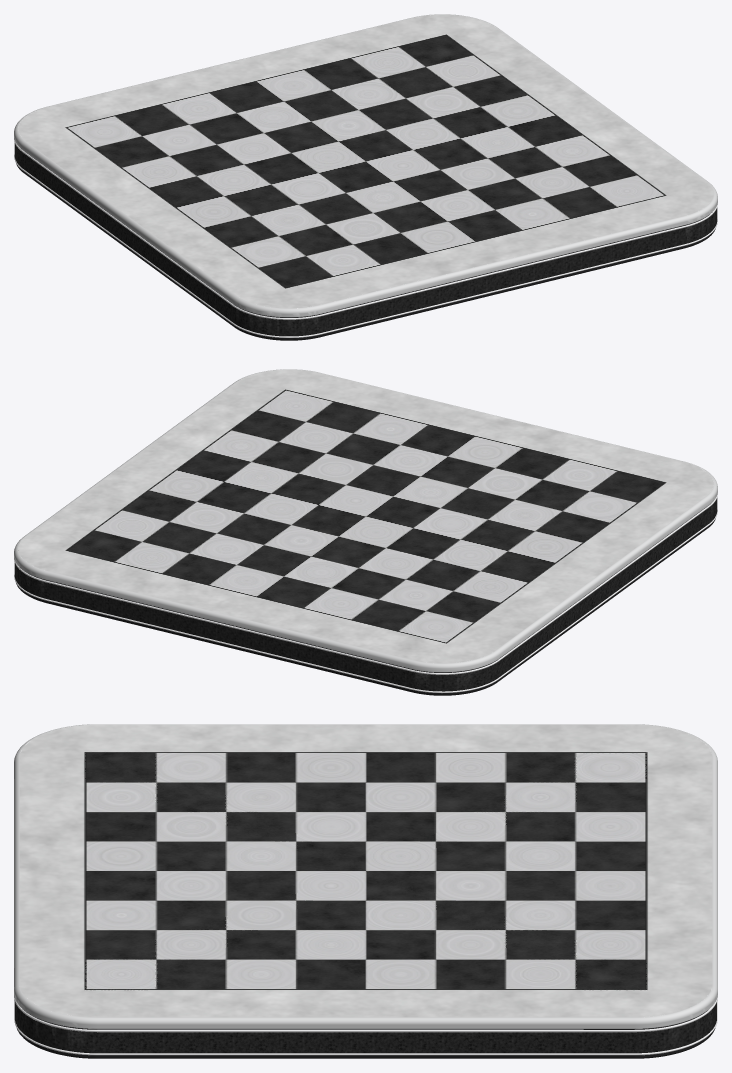
Rendered from board.glb.
3 views of the same model, one above another, from view 1: azimuth 30°, elevation 25°; view 2: azimuth 150°, elevation 25°; view 3: azimuth 270°, elevation 25° (orthographic). The views are drawn at different scales.
Visible parts, largest first — view 1: Argentum_Noctis_Chessboard; view 2: Argentum_Noctis_Chessboard; view 3: Argentum_Noctis_Chessboard.
Part boxes in pixels (<box>): Argentum_Noctis_Chessboard: <box>14,14,717,340</box>; Argentum_Noctis_Chessboard: <box>14,369,717,695</box>; Argentum_Noctis_Chessboard: <box>14,724,717,1058</box>.
Size of the model in its own units: 10.01 by 0.6357 by 10.01.
7 materials, 2 textured.
